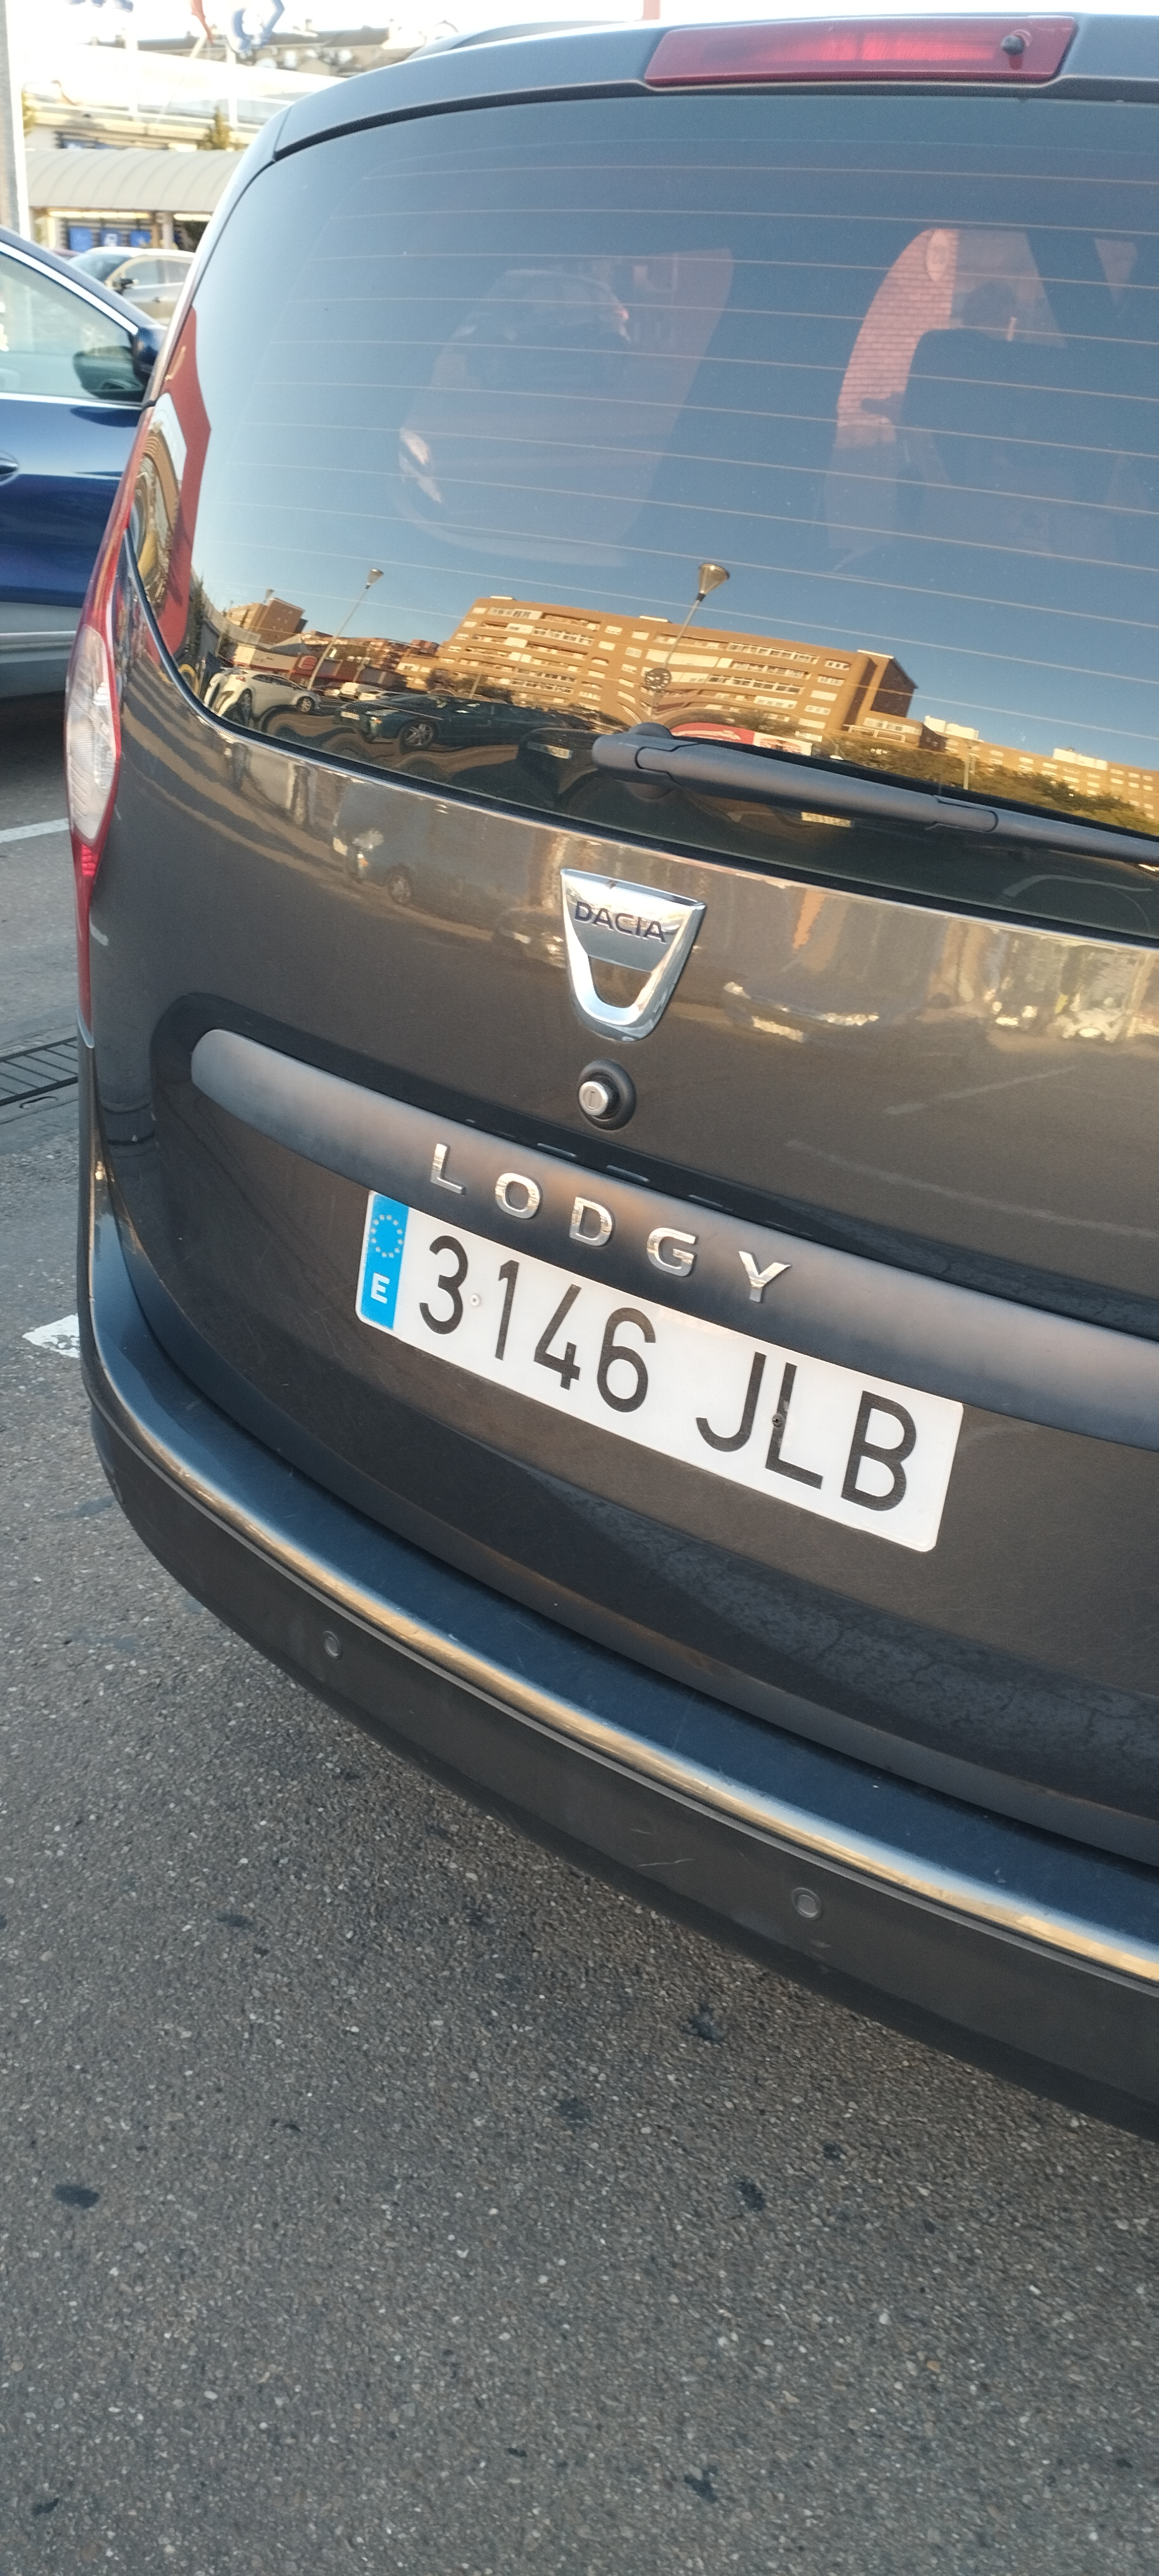Car: (74, 20, 1158, 2125)
Plate: (378, 1200, 1011, 1344)
